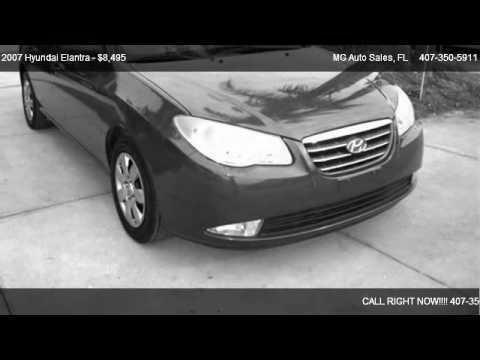car: (22, 45, 426, 252)
